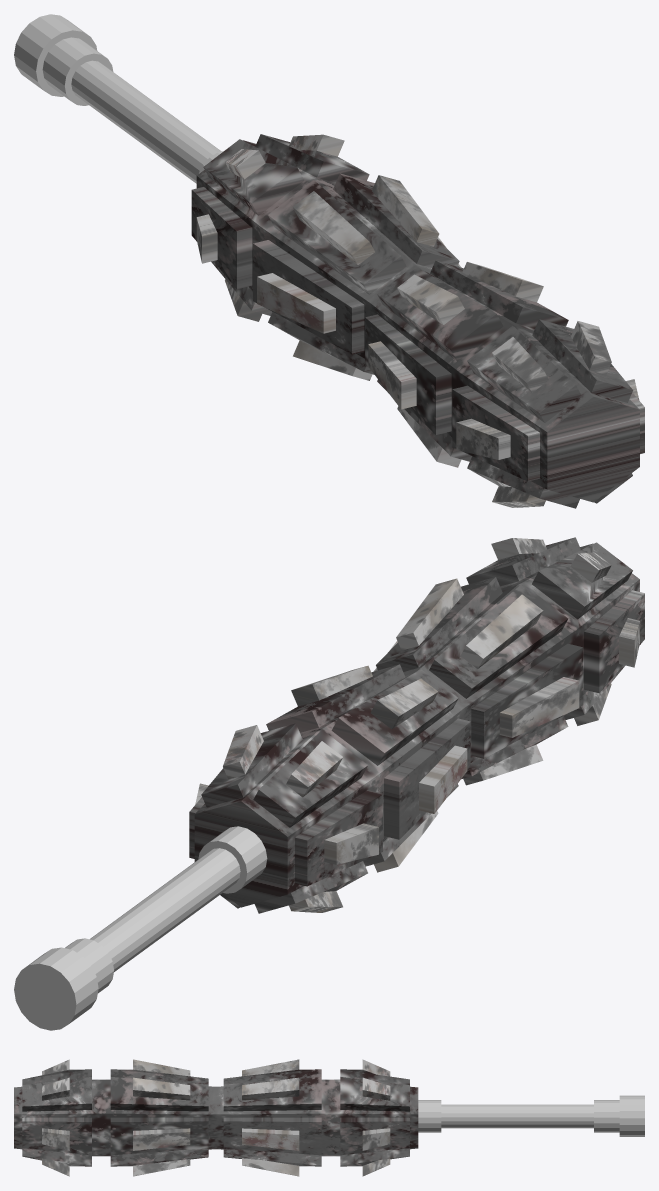
3 views of the same model, one above another, from view 1: azimuth 30°, elevation 25°; view 2: azimuth 150°, elevation 25°; view 3: azimuth 270°, elevation 25° (orthographic). The views are drawn at different scales.
Visible parts, largest first — view 1: weapon, 12; view 2: weapon, 12; view 3: weapon, 12.
Part boxes in pixels (x1,y1,x2,y2): weapon: [191, 134, 644, 508]; 12: [14, 14, 223, 183]; weapon: [189, 537, 644, 913]; 12: [14, 826, 267, 1030]; weapon: [14, 1059, 418, 1176]; 12: [418, 1095, 644, 1136].
Bounding box in the file's own units: 174 × 160 × 927.
